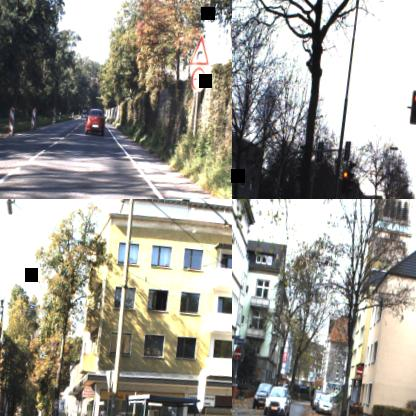NO ENTRY: (232, 346, 242, 360), (355, 364, 363, 378)
bend: (188, 33, 212, 67)
no overtaking (trucks): (188, 66, 206, 92), (51, 398, 59, 410)
